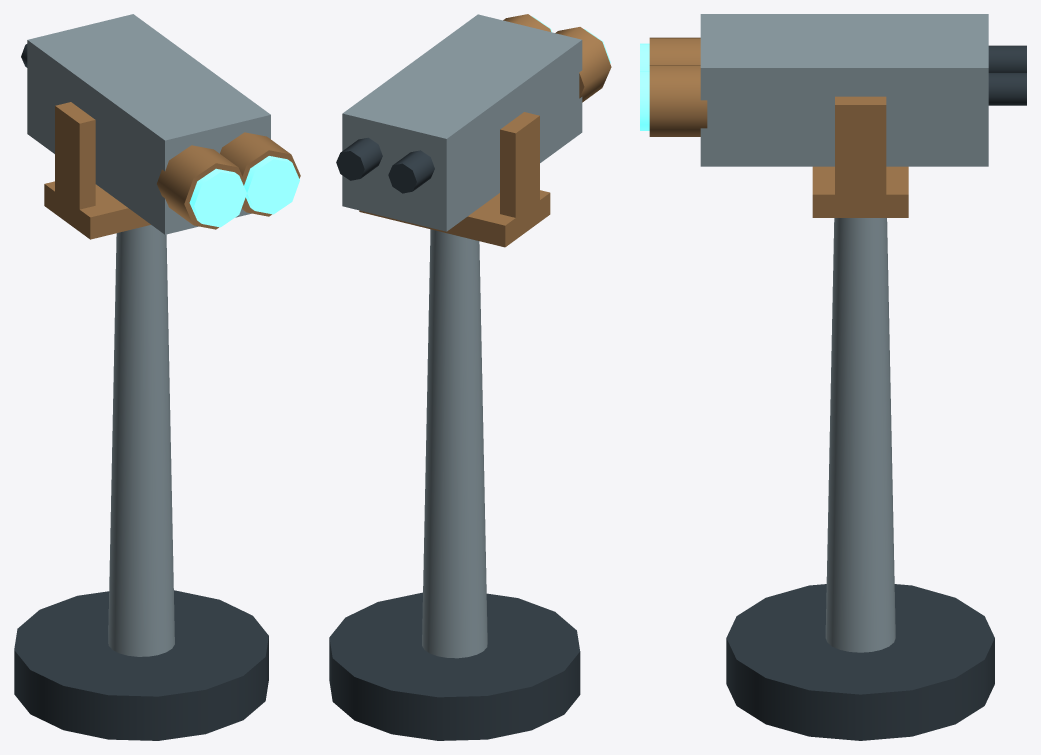
Rendered from telescope.lod1.glb.
3 renders of one model, left to right at view 1: azimuth 30°, elevation 25°; view 2: azimuth 150°, elevation 25°; view 3: azimuth 270°, elevation 25°, orthographic. The views are drawn at different scales.
Visible parts, largest first — view 1: structure, tube; view 2: structure, tube; view 3: structure, tube.
Boxes of the visible parts, x1,y1,x2,y2 form: structure: (14, 102, 268, 740); tube: (21, 14, 300, 234); structure: (329, 112, 580, 740); tube: (336, 14, 611, 231); structure: (726, 96, 994, 740); tube: (640, 14, 1026, 166).
Bounding box in the file's own units: 0.84 × 2.22 × 1.21.
